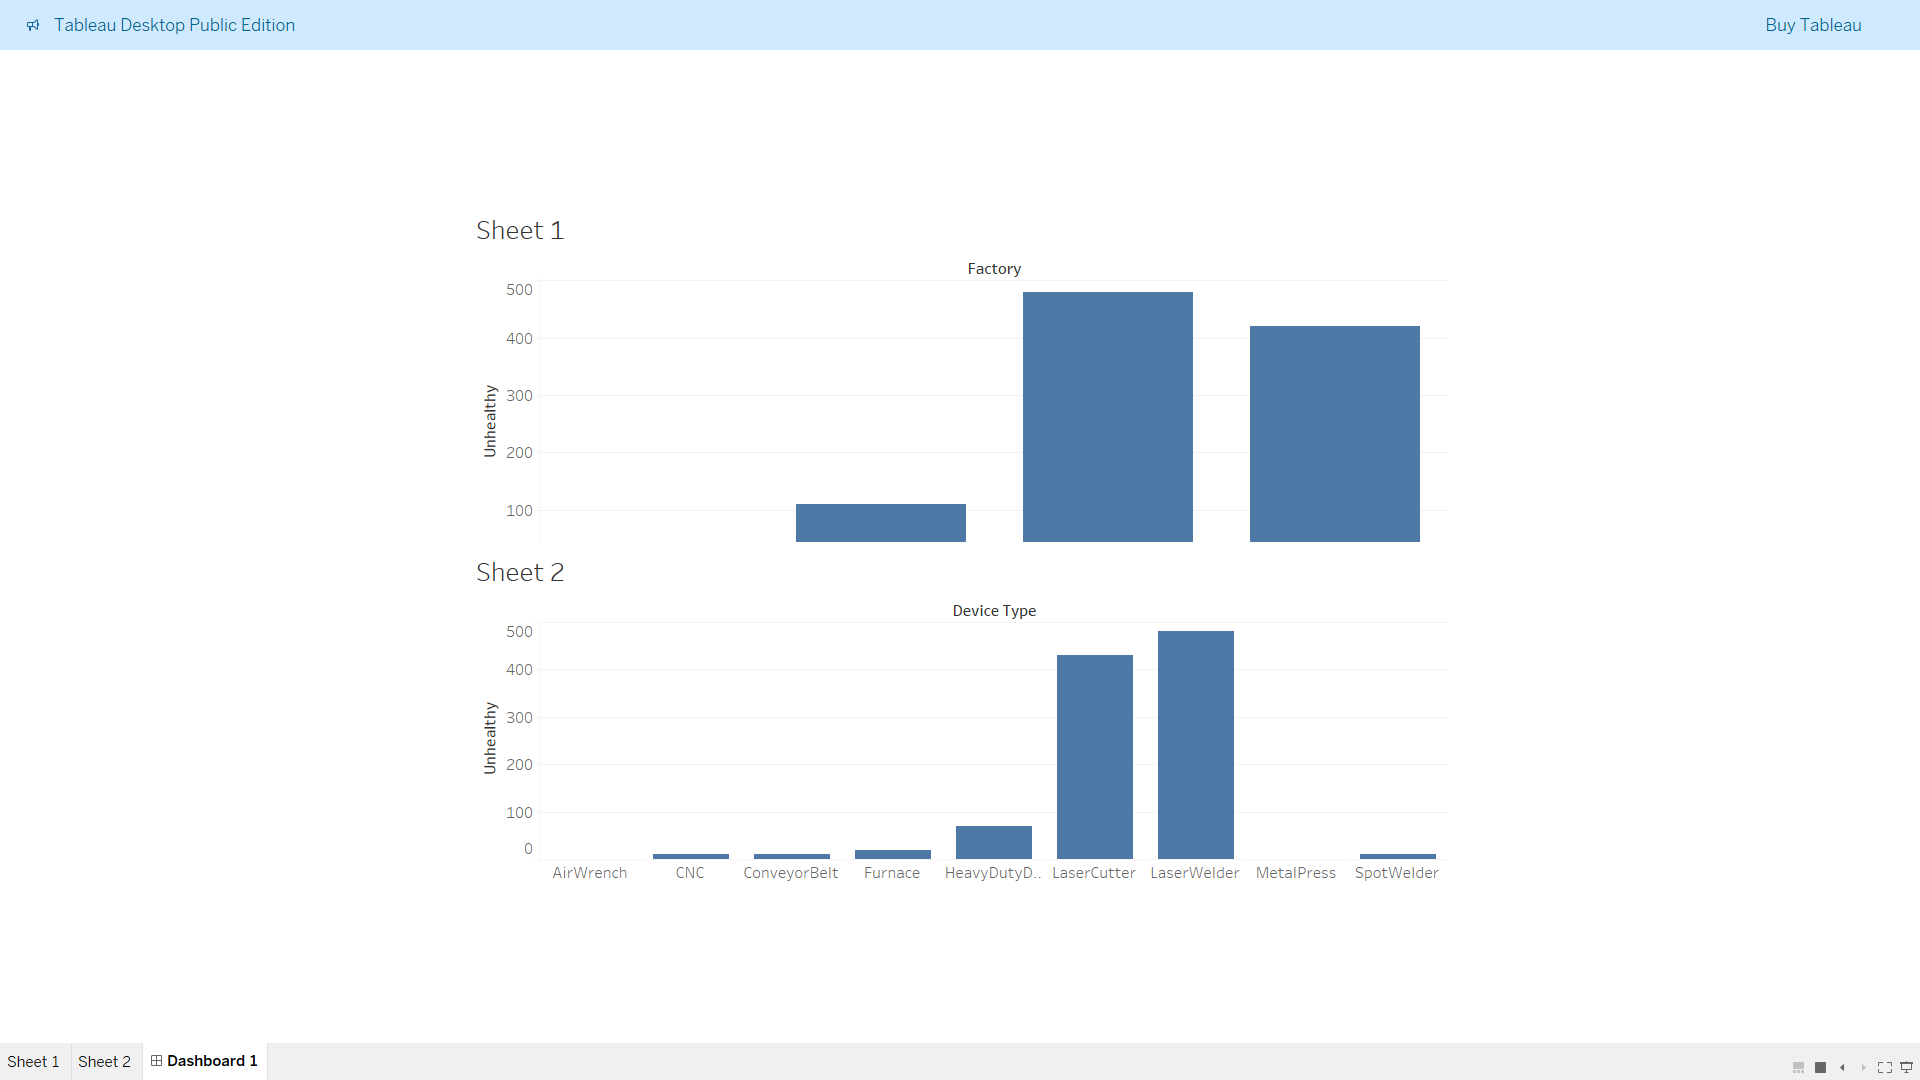

What the dashboard file says about the page in this screenshot:
{"tool":"tableau","page":{"name":"Dashboard 1","canvas":[1000,800],"ordinal":0},"visuals":[{"type":"worksheet","title":"Sheet 1","mark":"Automatic","rows":["Calculation_257268187052040192"],"cols":["factory"],"box":[8,8,984,392]},{"type":"worksheet","title":"Sheet 2","mark":"Automatic","rows":["Calculation_257268187052040192"],"cols":["deviceType"],"box":[8,400,984,392]}]}

Visuals, with their boxes on the page's 1000x800 design canvas (x1, y1, x2, y2). These are canvas units, not pixel positions in the 1920x1080 screenshot, which may show the page scaled, cropped or inside an application window:
"Sheet 1" worksheet: crop(8, 8, 992, 400)
"Sheet 2" worksheet: crop(8, 400, 992, 792)
